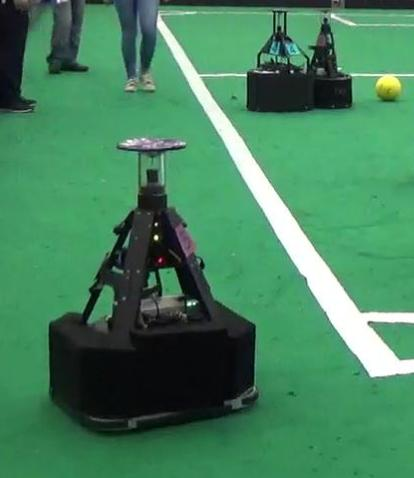robot: (47, 131, 265, 435), (242, 3, 313, 119), (300, 5, 352, 110)
